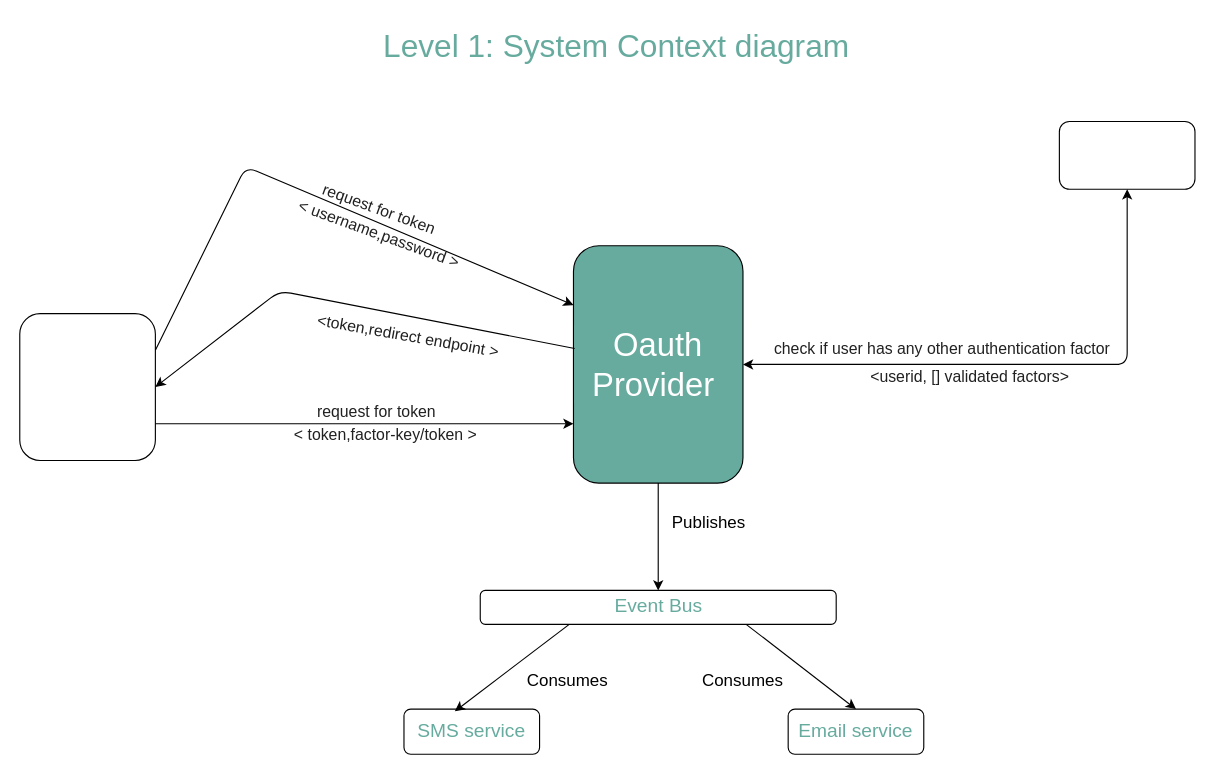
This 1215x774 diagram has some shape labels left out. Each missing label, with the box of its shape:
Client: (19, 312, 155, 460)
Policy Engine: (1058, 120, 1195, 189)
